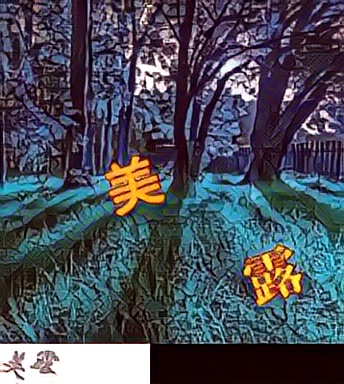C2B6: (241, 240, 305, 306)
C3C0: (104, 152, 168, 218)
